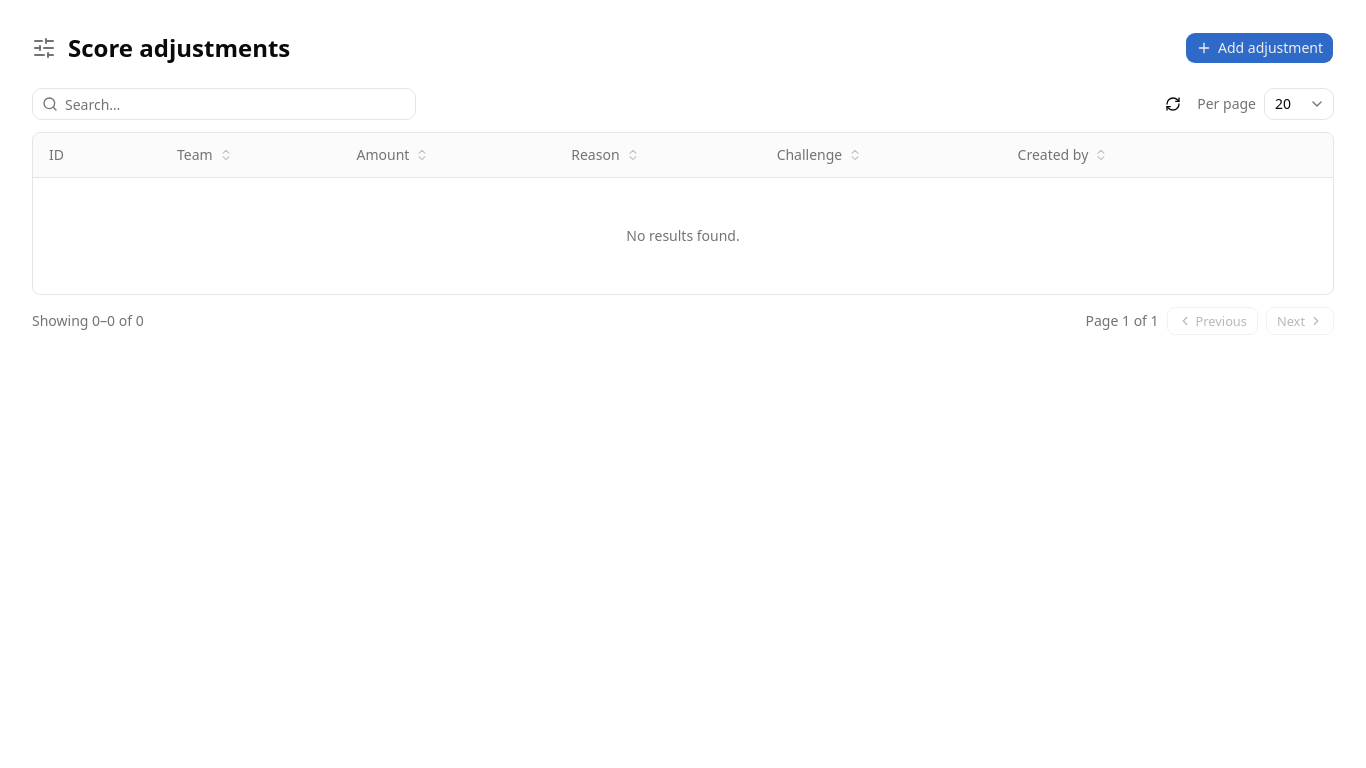
picks an optional challenge, defaulting to none
What coordinates should you click on to do the following:
click the button "Add adjustment"
I would click on:
 (1260, 48)
Its box is x1=1185 y1=32 x2=1334 y2=64.
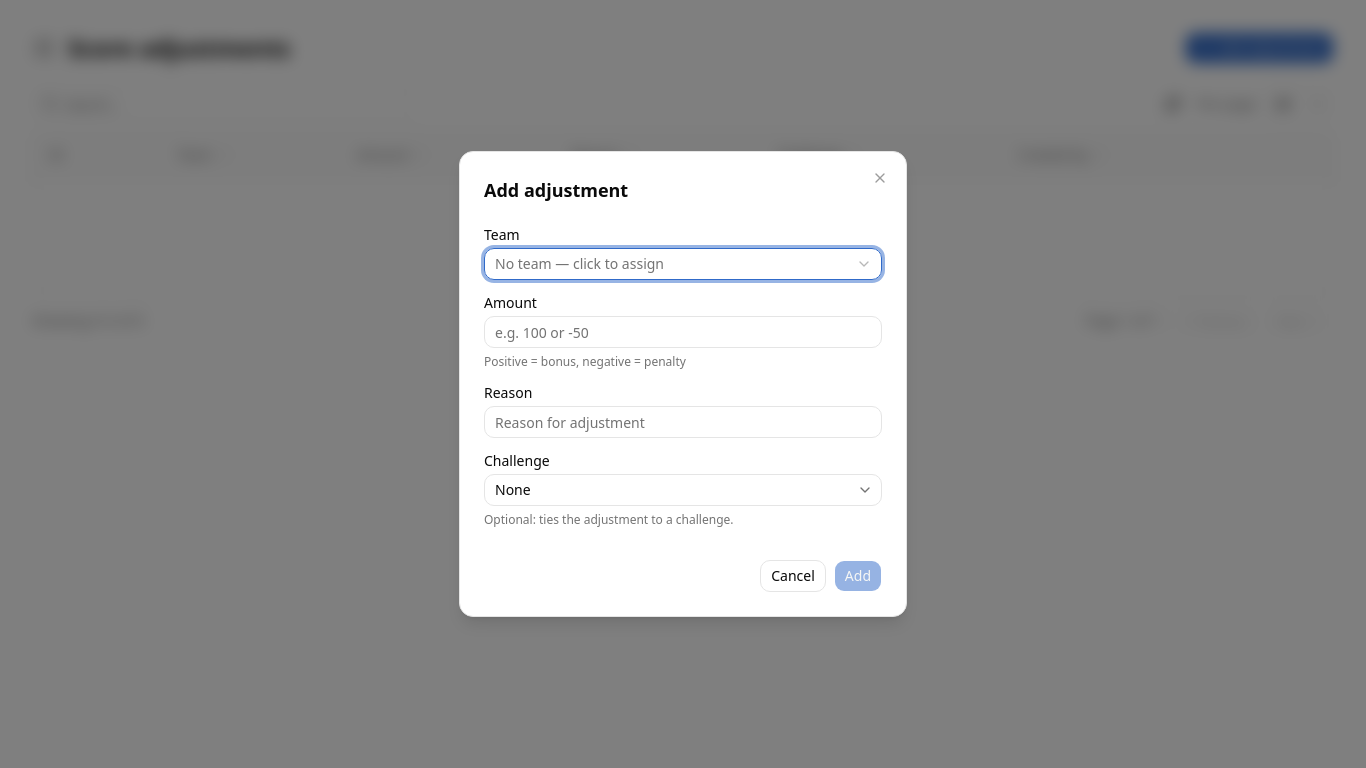
Result: the text "None" is shown
What coordinates should you click on to do the following:
click the text "None"
I would click on:
 (513, 490)
Its box is x1=495 y1=480 x2=531 y2=499.
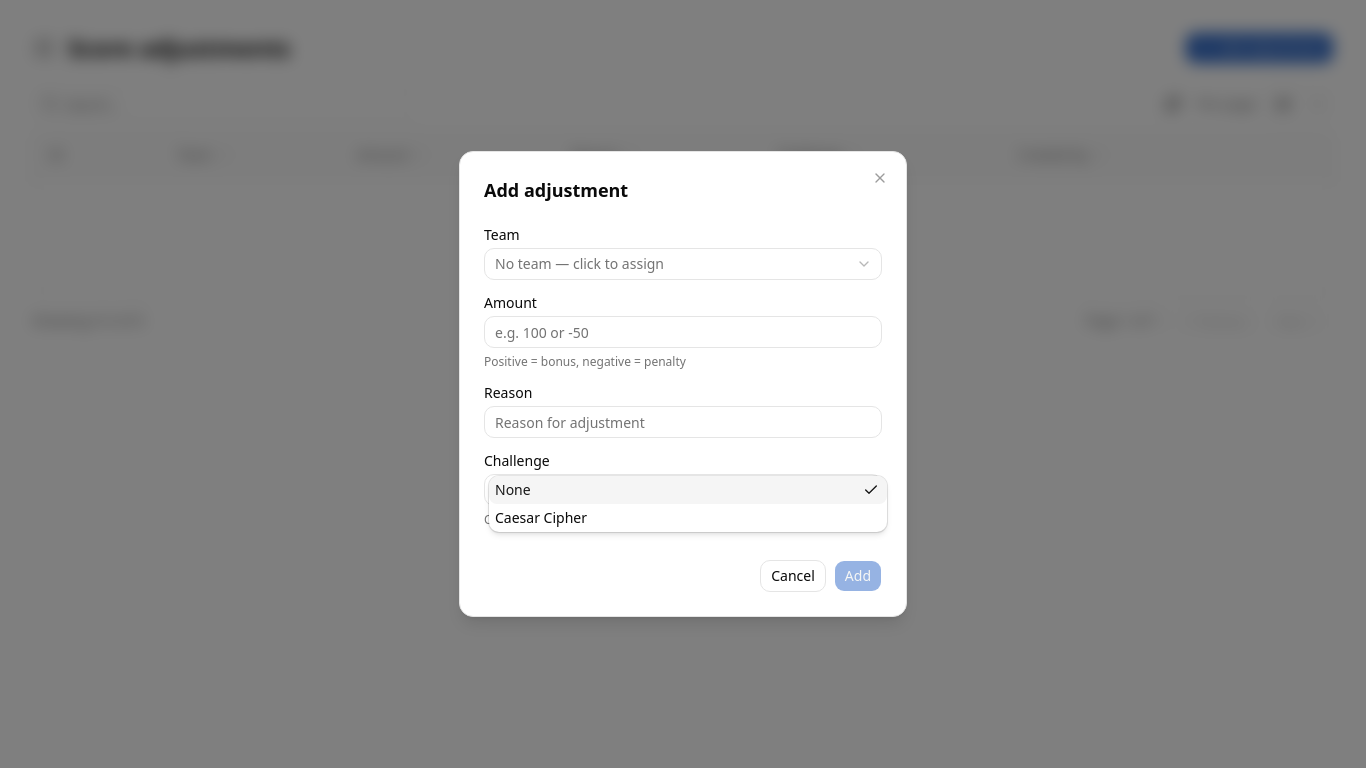
What coordinates should you click on to do the following:
click the option "Caesar Cipher"
I would click on:
 (541, 518)
Its box is x1=495 y1=508 x2=587 y2=527.
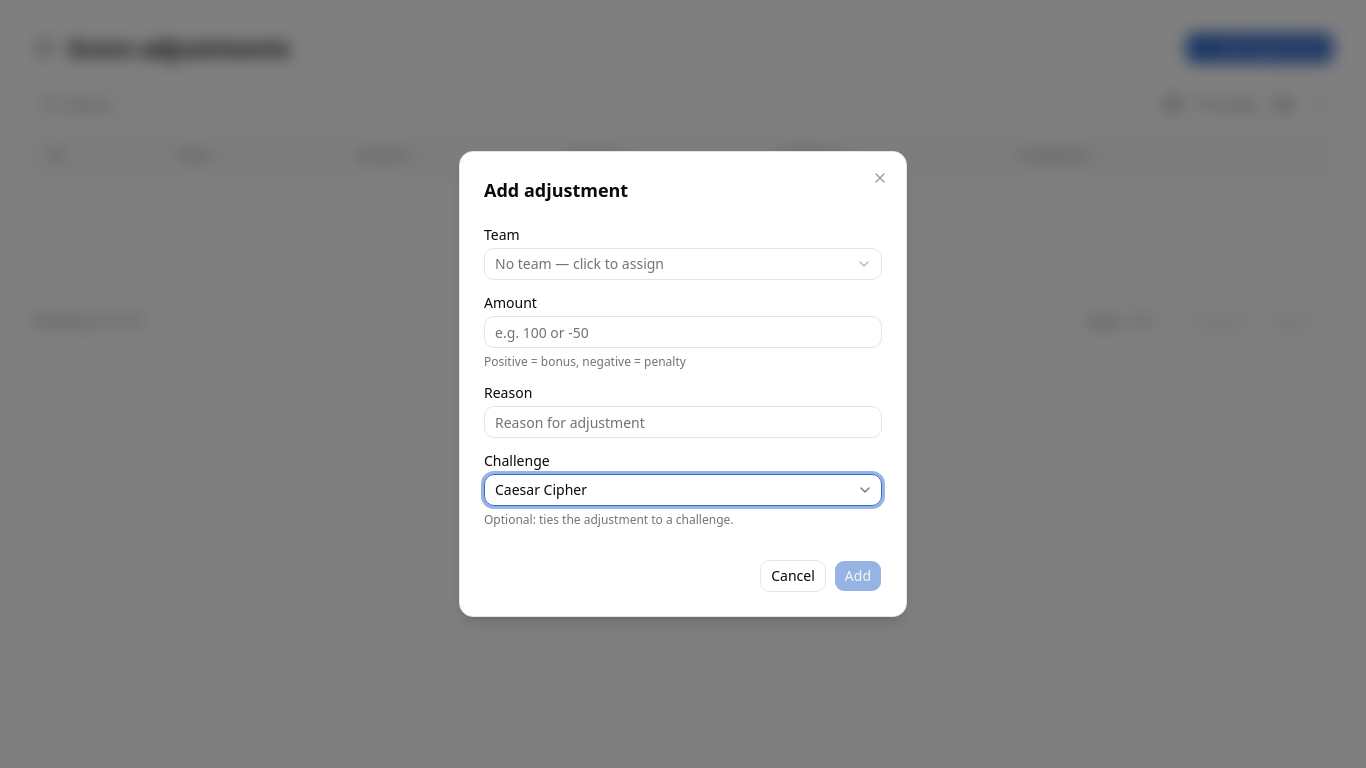
Result: the text "Caesar Cipher" is shown at x1=495 y1=480 x2=587 y2=499
